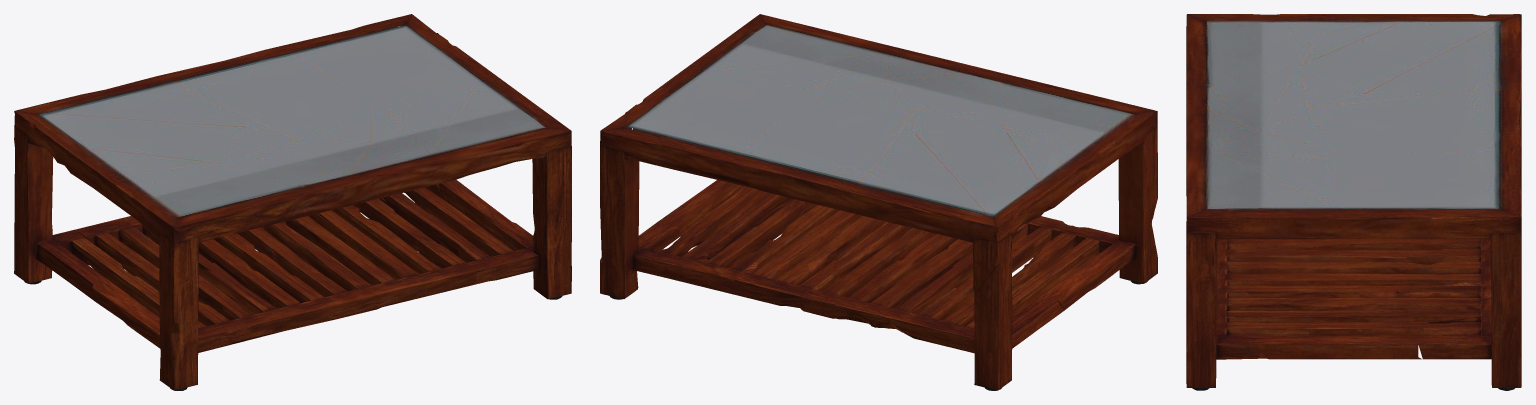
The model's file is w4coffee.glb.
3 views of the same model, side by side, from view 1: azimuth 30°, elevation 25°; view 2: azimuth 150°, elevation 25°; view 3: azimuth 270°, elevation 25° (orthographic). The views are drawn at different scales.
Parts seen in each view (by area): view 1: output_unwrapped; view 2: output_unwrapped; view 3: output_unwrapped.
Boxes of the visible parts, box(x1,y1,x2,y2) form: output_unwrapped: box(14, 14, 571, 390); output_unwrapped: box(600, 14, 1157, 390); output_unwrapped: box(1186, 14, 1521, 390).
Bounding box in the file's own units: 1.1 × 0.4441 × 0.7657.
Materials: 1 (1 with a texture image).
